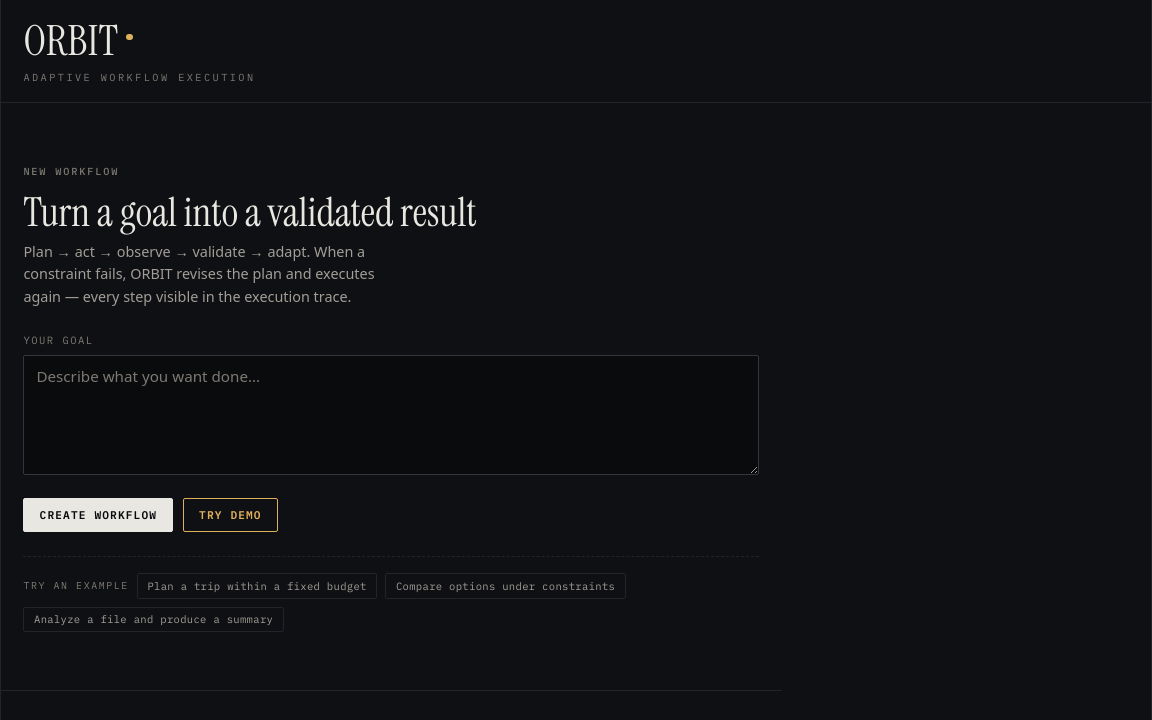
Scenario: replan presentation › stays quiet before any validation failure
Step 1. Type "Find options" into the text box named "goal-input" → [391, 415], box [23, 355, 759, 475]
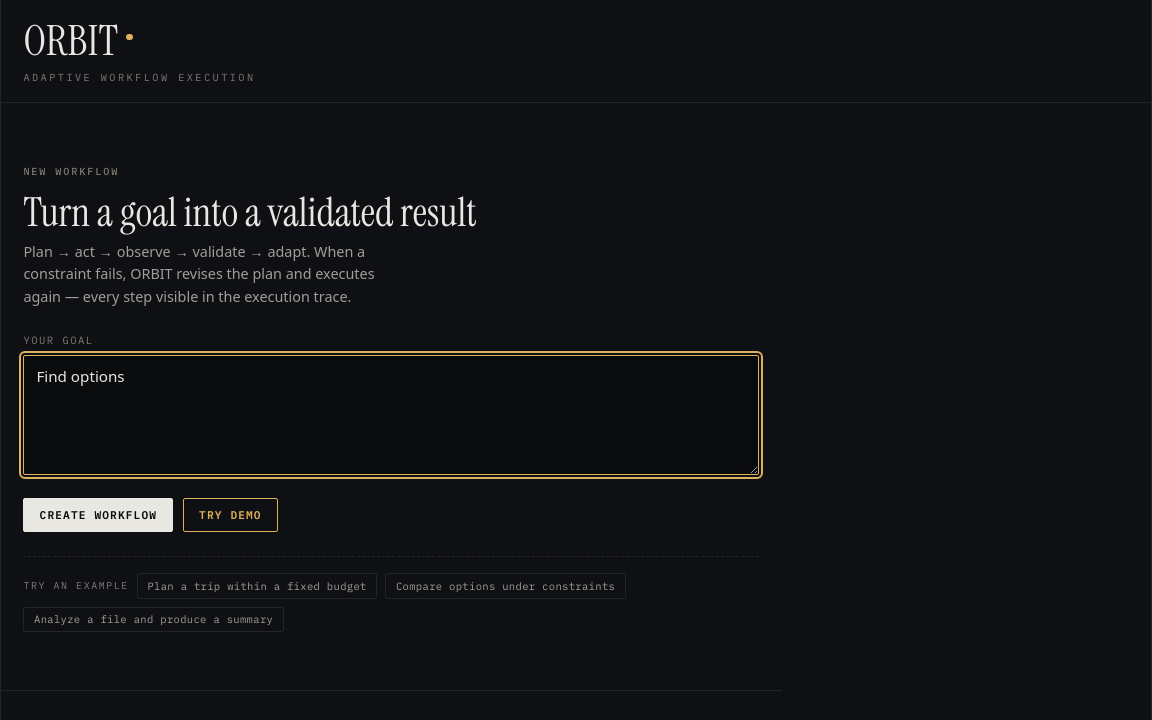
Step 2. Click the button "Create workflow" → [98, 515], box [23, 498, 173, 532]
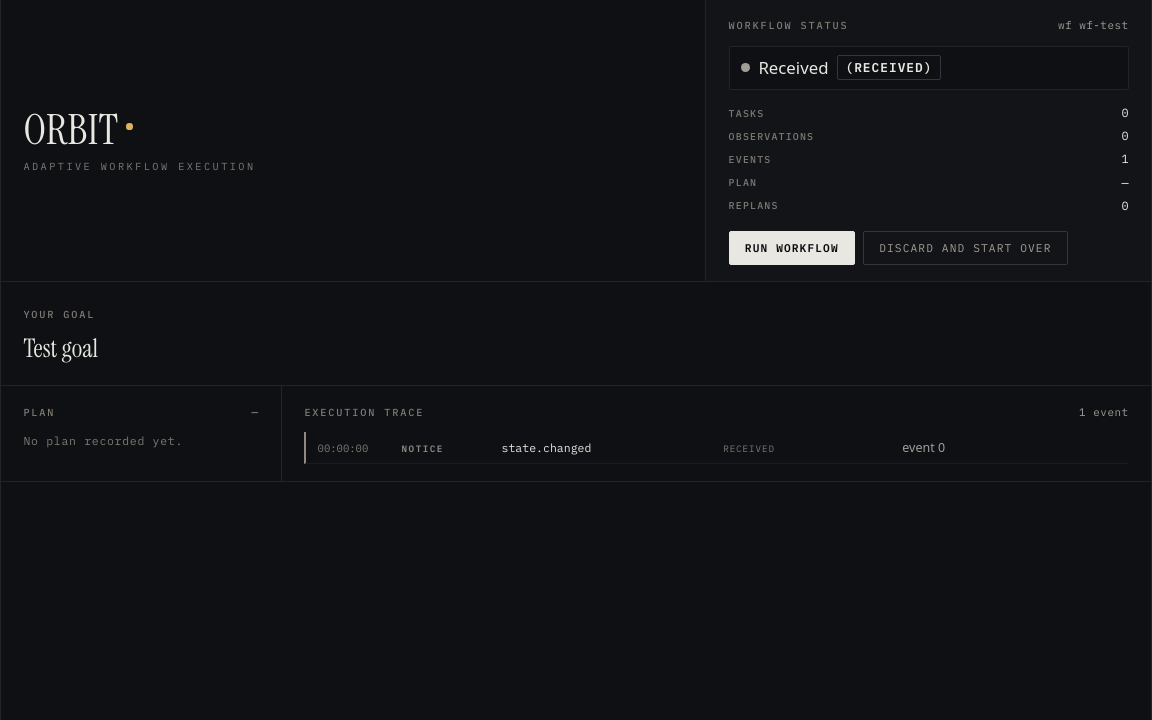
Expected: the element with test id "status-panel" is shown, [705, 0, 1151, 281]
Expected: the element with test id "event-timeline" is shown, [282, 386, 1151, 481]
